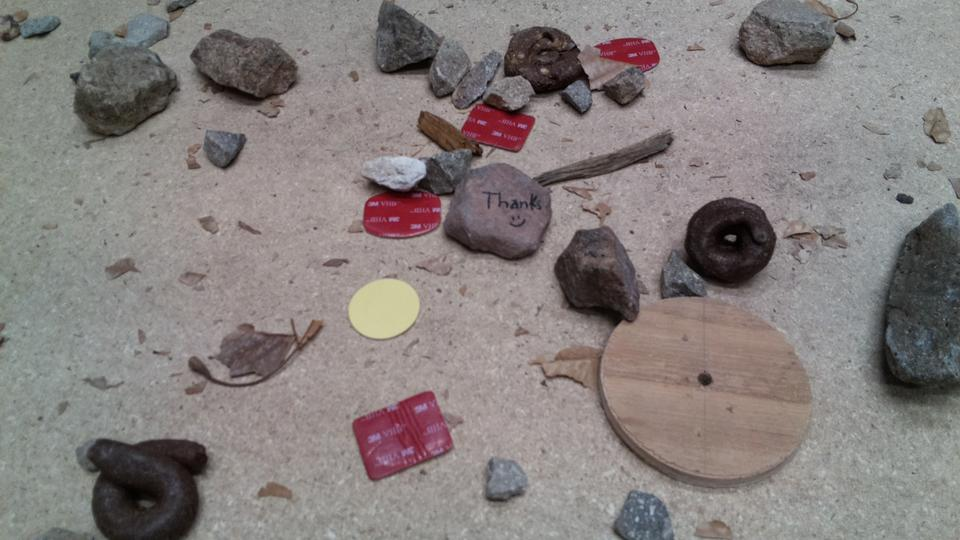poop: (83, 435, 210, 540), (681, 194, 779, 283), (503, 25, 582, 95)
